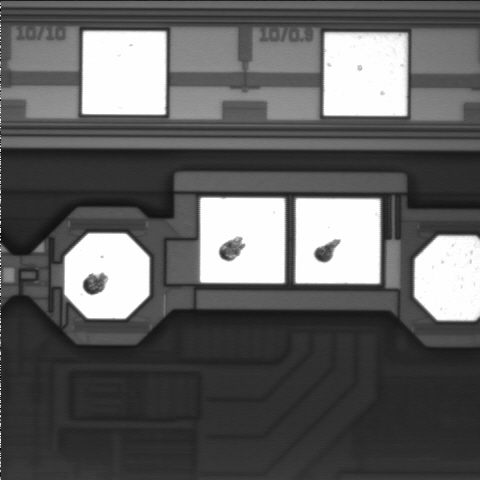pad: (295, 198, 380, 284), (200, 198, 285, 283), (65, 234, 149, 319), (82, 31, 166, 115), (324, 33, 407, 116)
